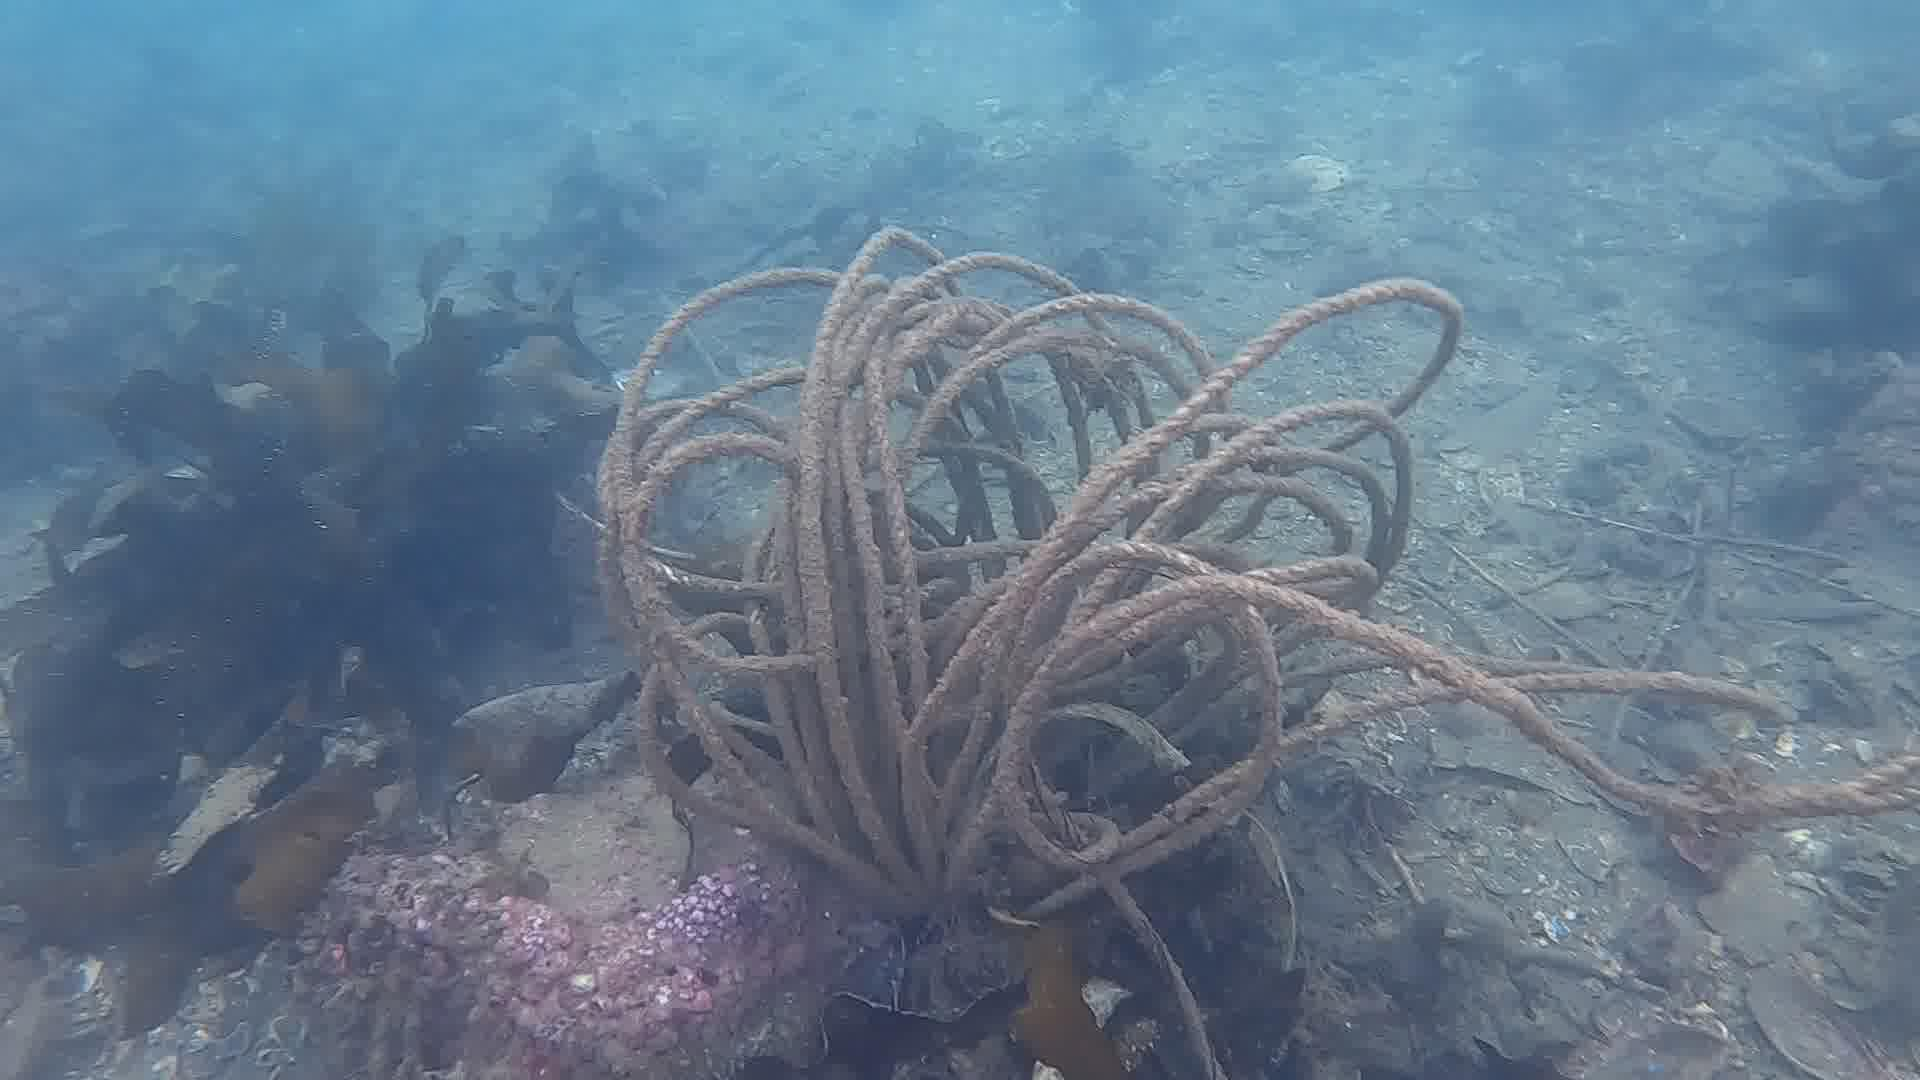bundle of ropes: (595, 220, 1915, 1080)
